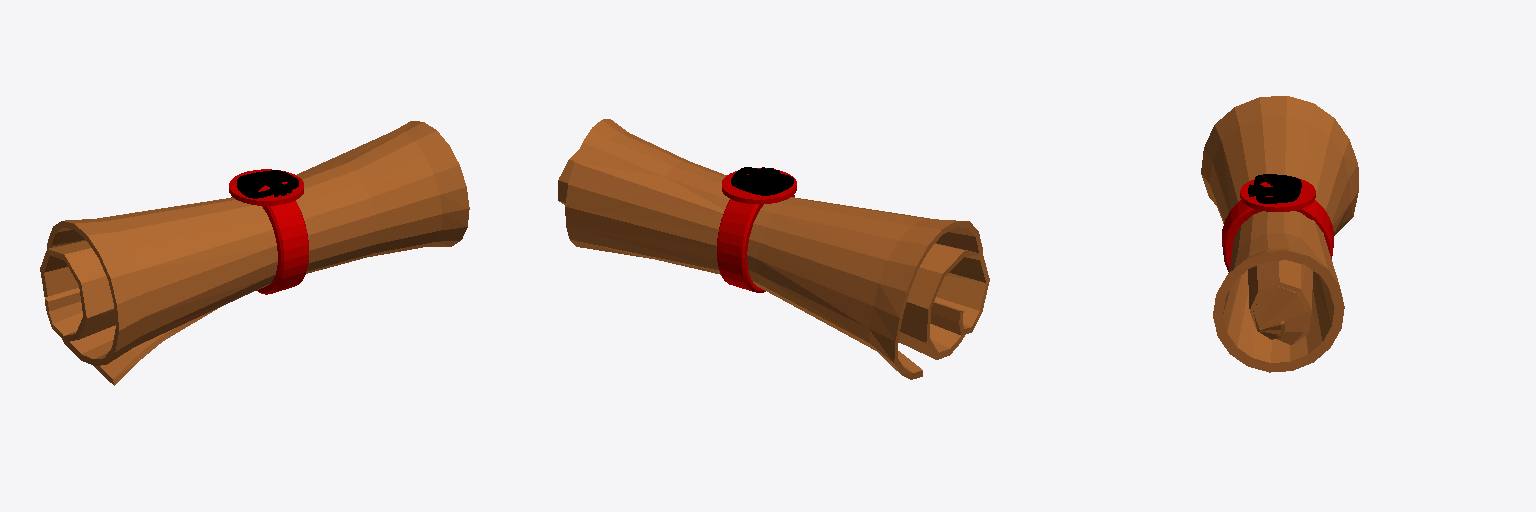
File: Treasure_Map.obj
The picture shows the model from 3 angles: view 1: azimuth 30°, elevation 25°; view 2: azimuth 150°, elevation 25°; view 3: azimuth 270°, elevation 25°; orthographic projection.
Parts seen in each view (by area): view 1: Treasure_Map; view 2: Treasure_Map; view 3: Treasure_Map.
Part boxes in pixels (x1,y1,x2,y2): Treasure_Map: (40,121,469,385); Treasure_Map: (558,119,989,379); Treasure_Map: (1201,96,1358,372).
Bounding box in the file's own units: 1.9 × 0.8041 × 0.6461.